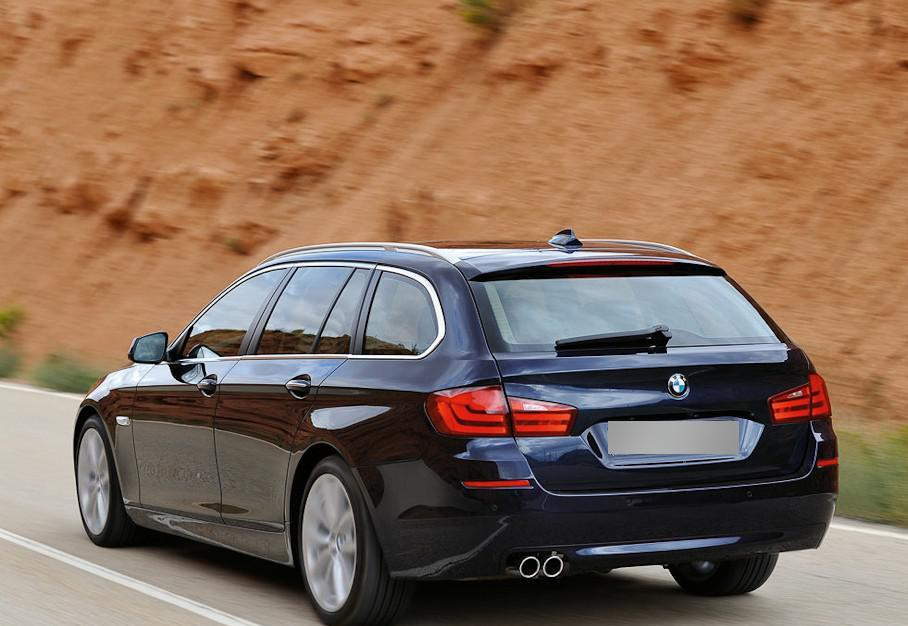Wagon: (72, 228, 840, 626)
